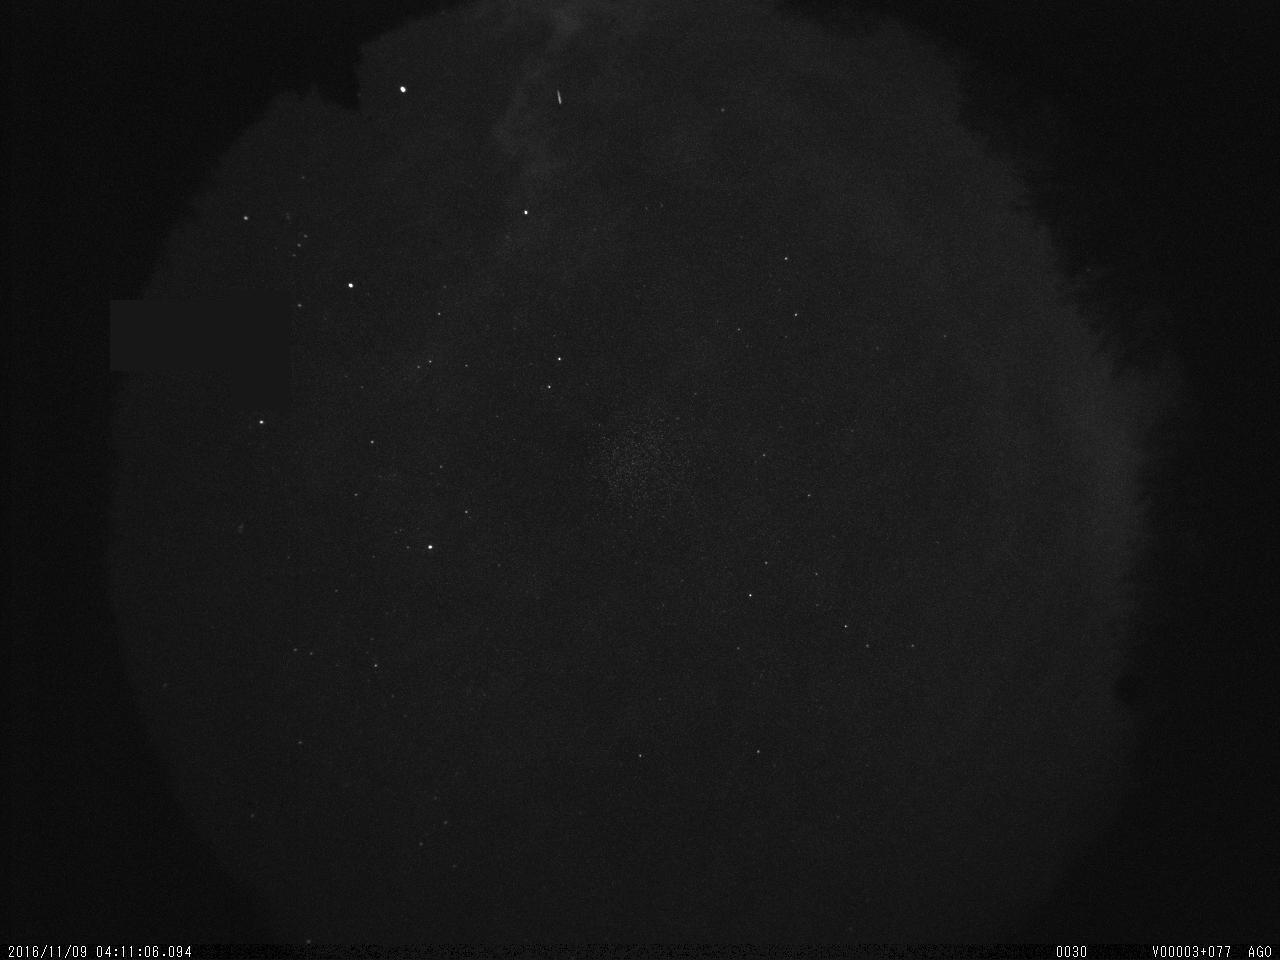Meteor: (553, 87, 564, 106)
